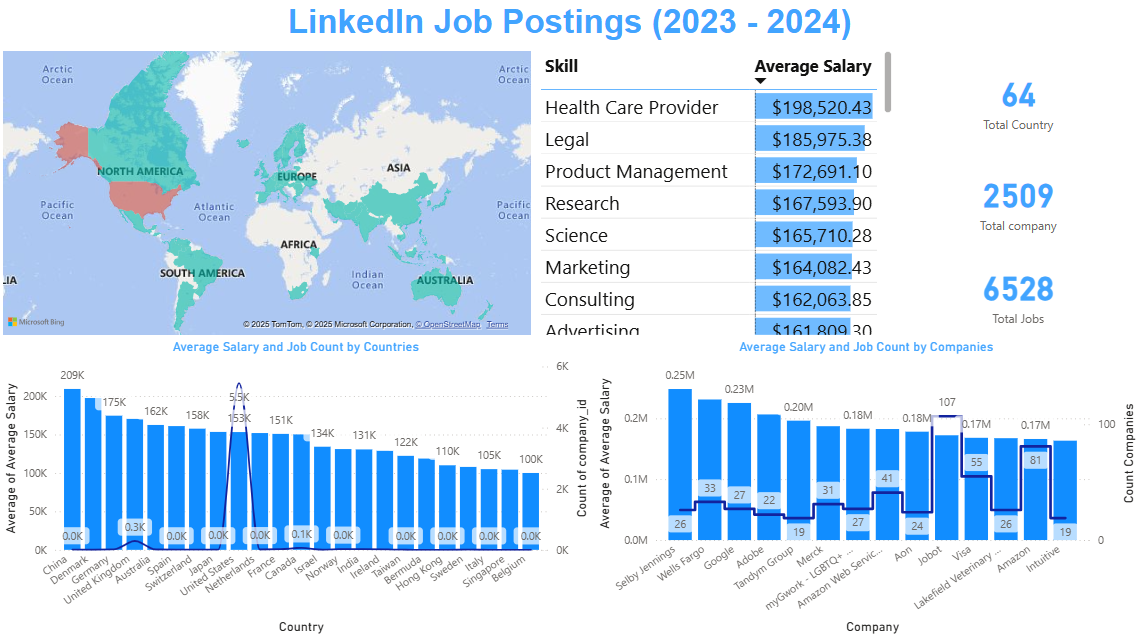

What the dashboard file says about the page in this screenshot:
{"tool":"powerbi","page":{"name":"Page 1","canvas":[1280,720],"ordinal":0},"visuals":[{"type":"textbox","box":[0,0,1280.3,54.7],"z":0},{"type":"filledMap","fields":{"Category":["companies.country","companies.state"]},"box":[0,54.7,601.6,328.1],"z":1000},{"type":"card","fields":{"Values":["postings (2).company_id"]},"box":[1006.8,173.9,273.4,106.6],"z":2000},{"type":"card","fields":{"Values":["companies.country"]},"box":[1006.8,54.7,273.4,119.2],"z":3000},{"type":"tableEx","fields":{"Values":["skills.skill_name","skills.Average Salary by Skill"]},"box":[601.6,54.7,405.3,328.1],"z":4000},{"type":"card","fields":{"Values":["postings (2).job_id"]},"box":[1006.8,280.5,273.4,102.4],"z":5000},{"type":"lineStackedColumnComboChart","title":"Average Salary and Job Count by Countries","fields":{"Category":["country_abbrv.Country"],"Y":["postings.Average Salary"],"Y2":["postings.company_id"]},"box":[0,382.5,666.2,336.2],"z":6000},{"type":"lineStackedColumnComboChart","title":"Average Salary and Job Count by Companies","fields":{"Category":["postings (2).company_name"],"Y":["postings.Average Salary"],"Y2":["postings.Count Companies"]},"box":[666.2,382.5,613.8,336.2],"z":7000}]}

Visuals, with their boxes in screenshot pixels (x1, y1, x2, y2), scaled from the page's 1280x720 canvas onto the 1136x635 screenshot:
textbox: region(0, 0, 1135, 48)
filledMap - companies.country x companies.state: region(0, 48, 534, 338)
card - postings (2).company_id: region(894, 153, 1135, 247)
card - companies.country: region(894, 48, 1135, 153)
tableEx - skills.skill_name x skills.Average Salary by Skill: region(534, 48, 894, 338)
card - postings (2).job_id: region(894, 247, 1135, 338)
"Average Salary and Job Count by Countries" lineStackedColumnComboChart: region(0, 337, 591, 634)
"Average Salary and Job Count by Companies" lineStackedColumnComboChart: region(591, 337, 1135, 634)
